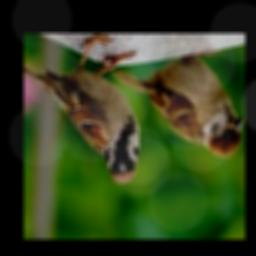Sparrow: (23, 35, 138, 184), (112, 51, 243, 157)
